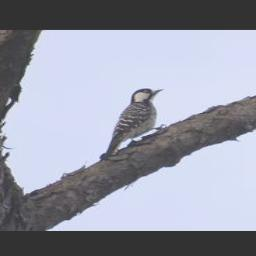Woodpecker: (94, 83, 171, 164)
